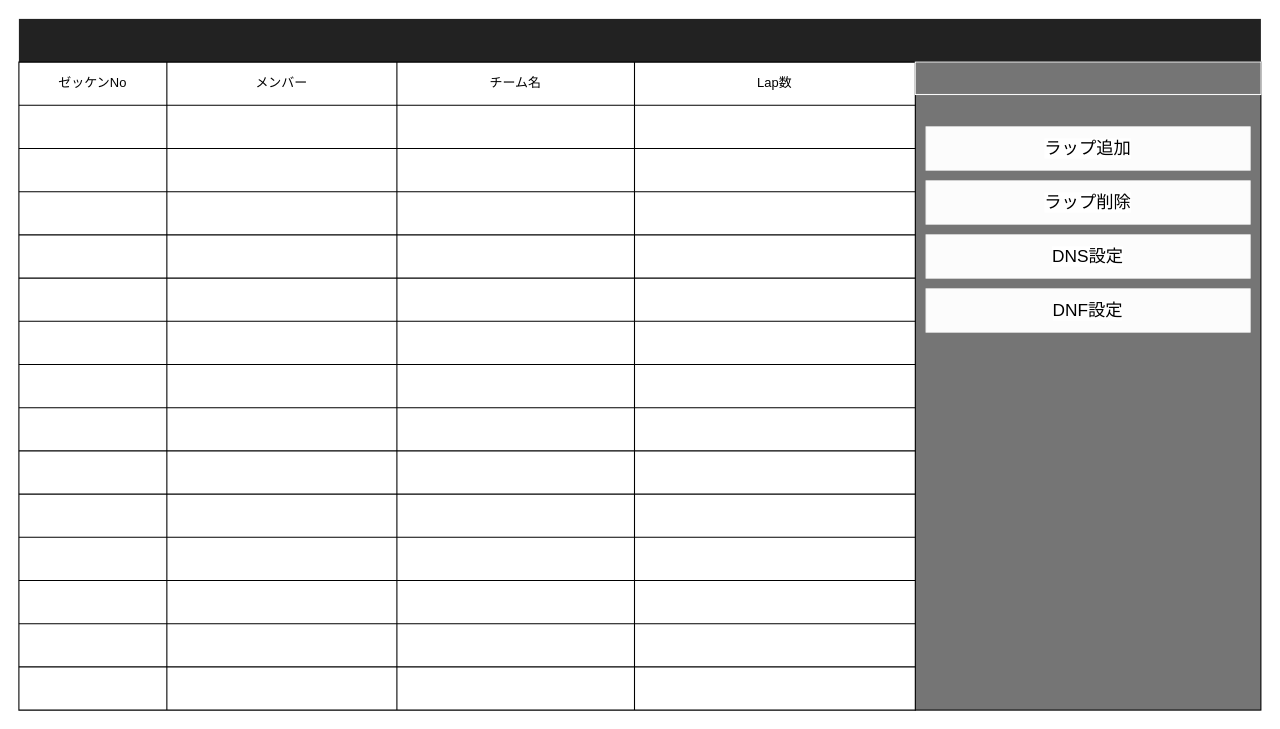
This 1280x729 diagram has some shape labels left out. The shapes that lost their labels are listed below. From the top down, each one's box as (x1, y1, x2, y2) in pixels, then its label:
(18, 18, 1260, 62): RaceNow
(914, 61, 1261, 94): 管理ツール
